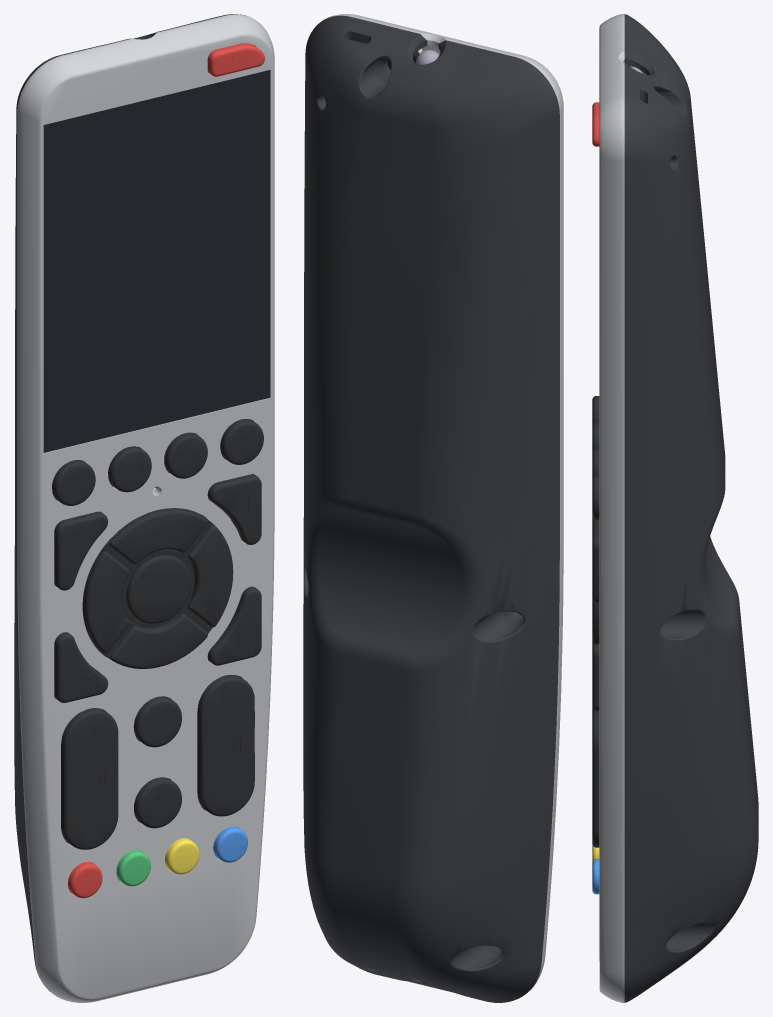
The model's file is remote.glb.
The picture shows the model from 3 angles, left to right: view 1: azimuth 30°, elevation 25°; view 2: azimuth 150°, elevation 25°; view 3: azimuth 270°, elevation 25°; orthographic projection. The views are drawn at different scales.
Visible parts, largest first — view 1: remote_abdeckung, remote_platine_glas, remote_tasten, remote_gehaeuse, remote_taste_aus, remote_taste_gelb, remote_taste_blau, remote_taste_gruen, remote_taste_rot; view 2: remote_gehaeuse, remote_abdeckung; view 3: remote_gehaeuse, remote_abdeckung, remote_tasten.
Part boxes in pixels (<box>): remote_abdeckung: <box>17,14,274,1002</box>; remote_platine_glas: <box>43,70,270,452</box>; remote_tasten: <box>52,419,263,849</box>; remote_gehaeuse: <box>14,14,245,991</box>; remote_taste_aus: <box>207,43,264,76</box>; remote_taste_gelb: <box>165,838,199,874</box>; remote_taste_blau: <box>213,826,247,862</box>; remote_taste_gruen: <box>116,850,150,886</box>; remote_taste_rot: <box>68,862,102,898</box>; remote_gehaeuse: <box>303,15,559,1002</box>; remote_abdeckung: <box>320,14,563,992</box>; remote_gehaeuse: <box>624,14,758,1002</box>; remote_abdeckung: <box>599,14,630,1002</box>; remote_tasten: <box>592,396,599,847</box>.
Bounding box in the file's own units: 0.0558 × 0.1998 × 0.0329.
